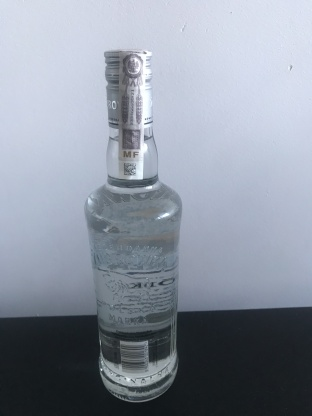nakretka: (102, 45, 156, 131)
